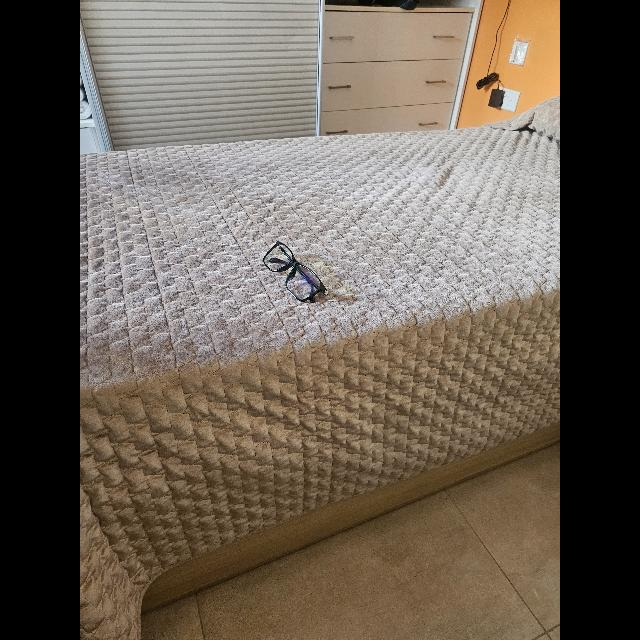glasses: (262, 242, 328, 302)
